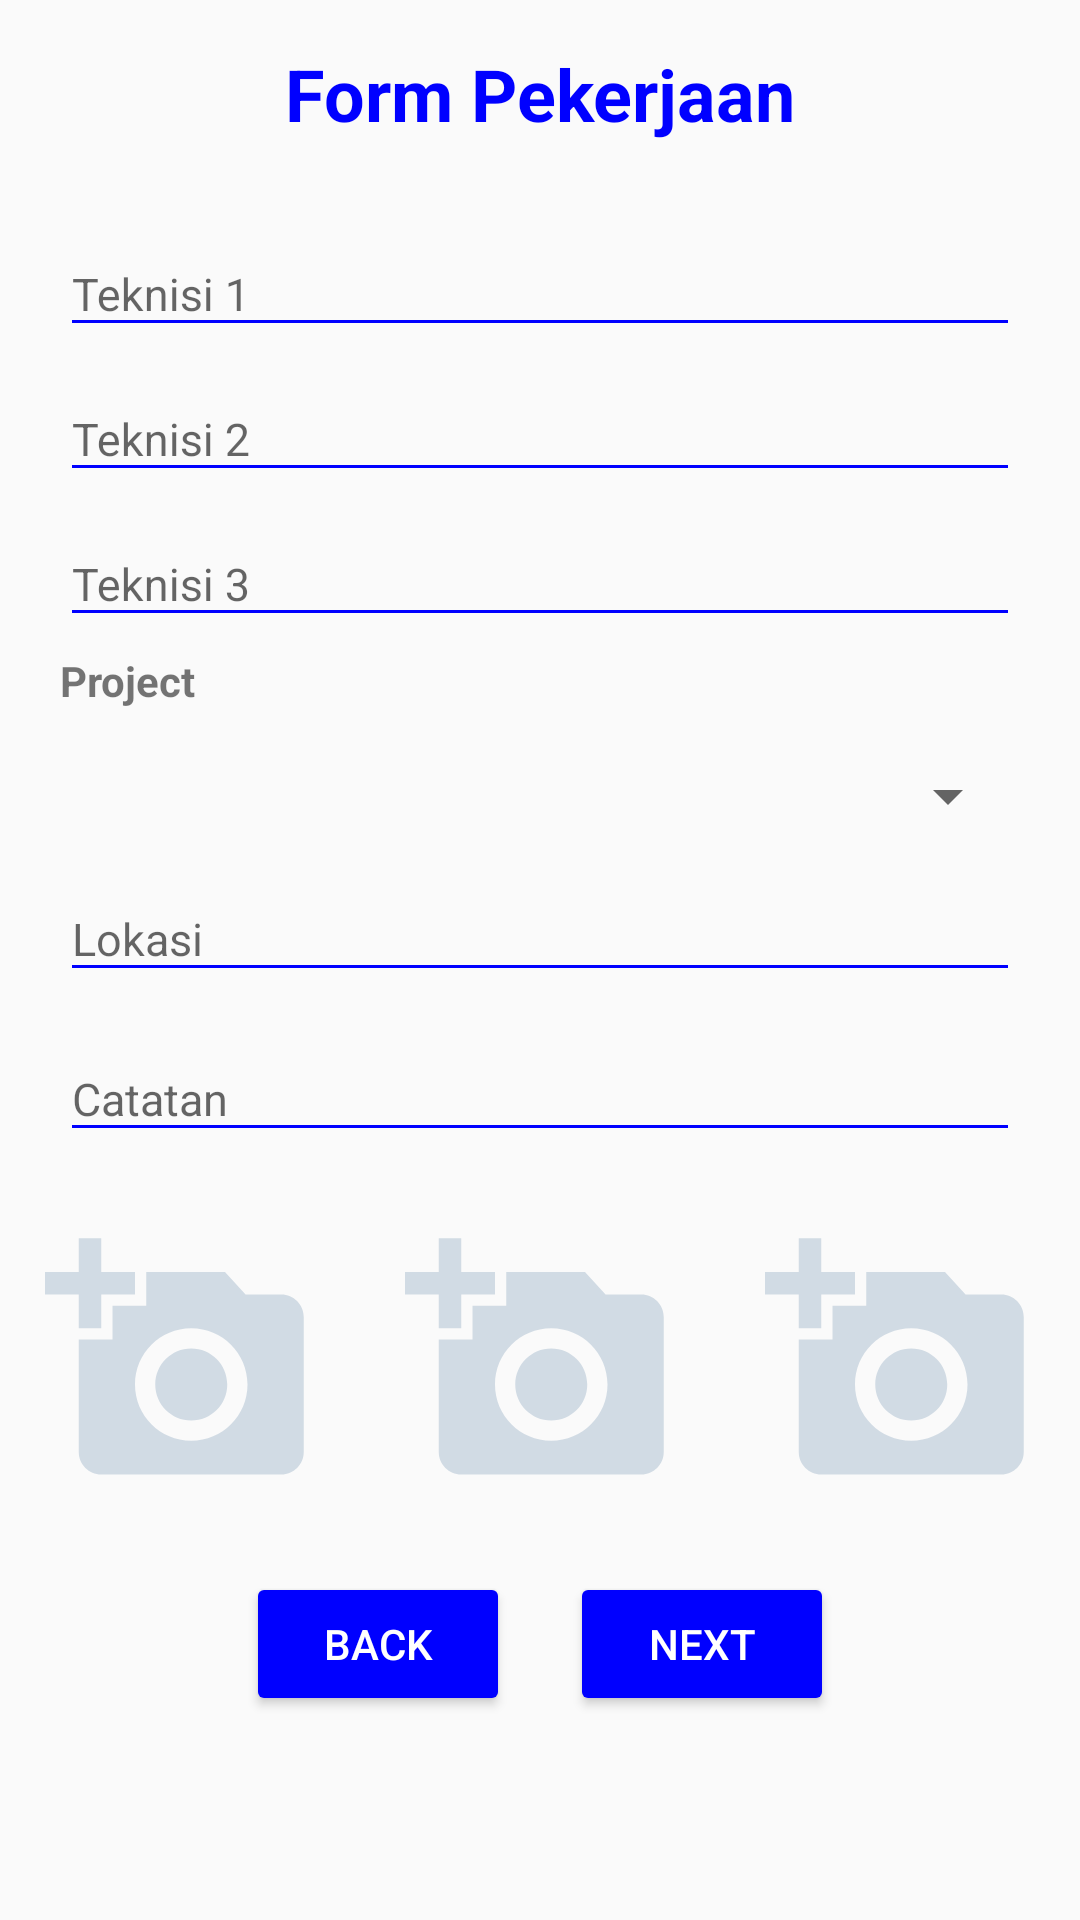

Icons on this 1080×1920 Android screen, each with the point to tap as (x,y):
add photo: (174,1356), (534,1356), (894,1356)
